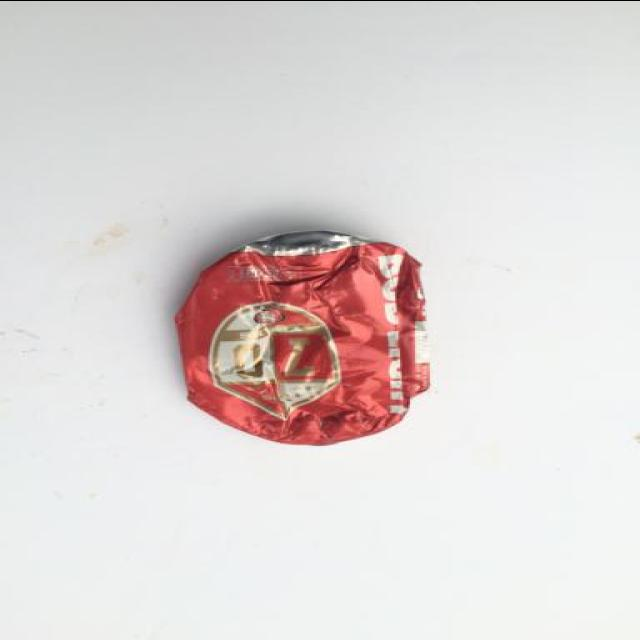litter: (160, 214, 448, 444)
